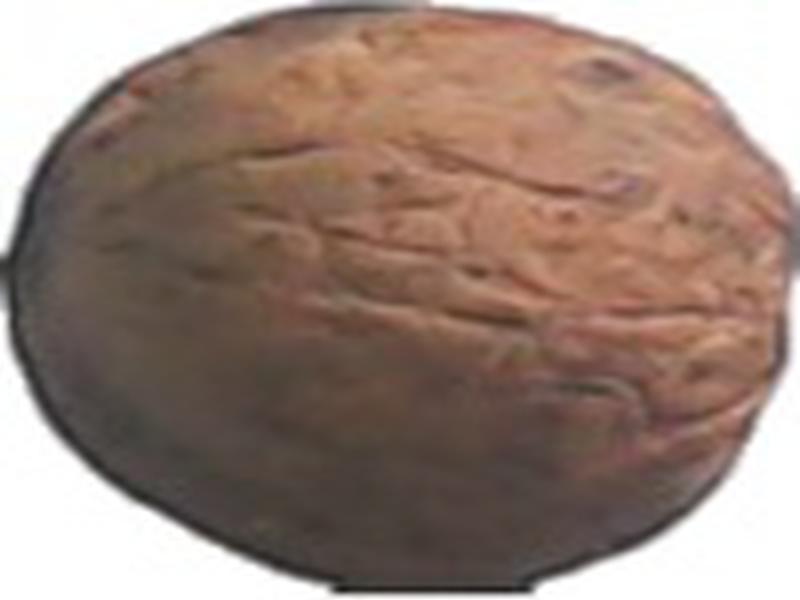walnut: (2, 3, 794, 600)
